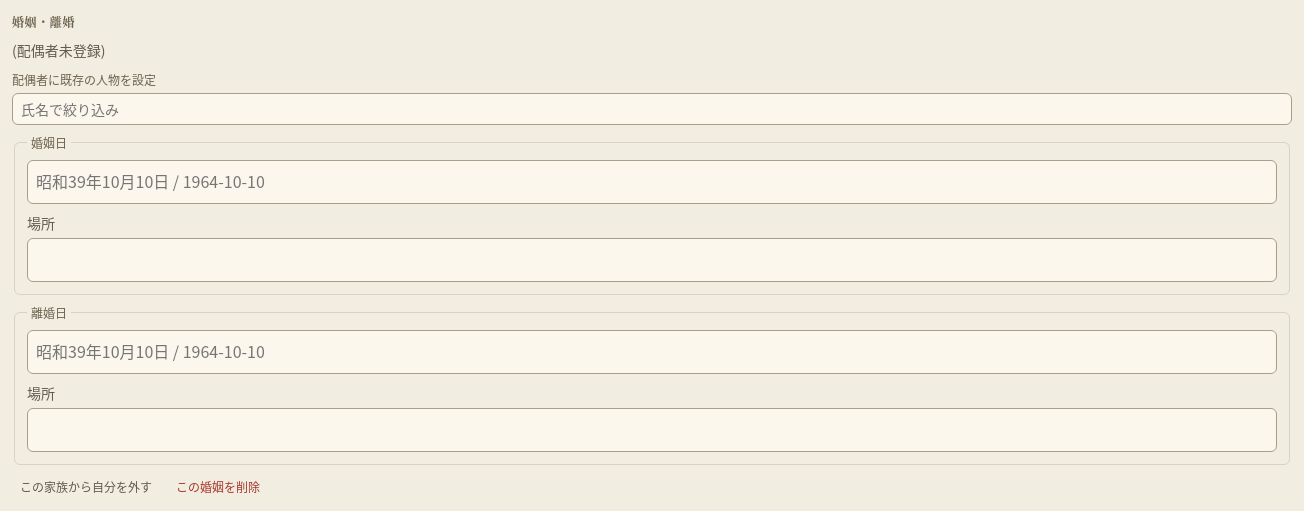
it: FamilyEventEditor: 配偶者が未登録の家族への紐づけ › 氏名で絞り込める
Type "X" into the dropdown labelled "配偶者に既存の人物を設定".
click(652, 109); type("X")  # box [12,93,1292,125]
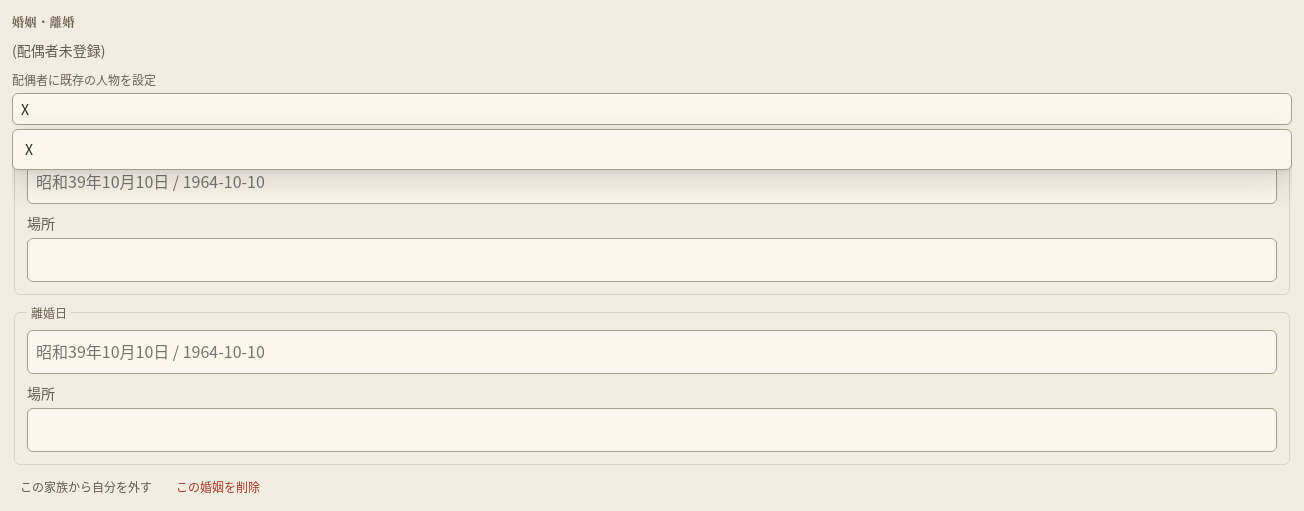
Expected: the options read "X", in this order, [25,139,33,159]
